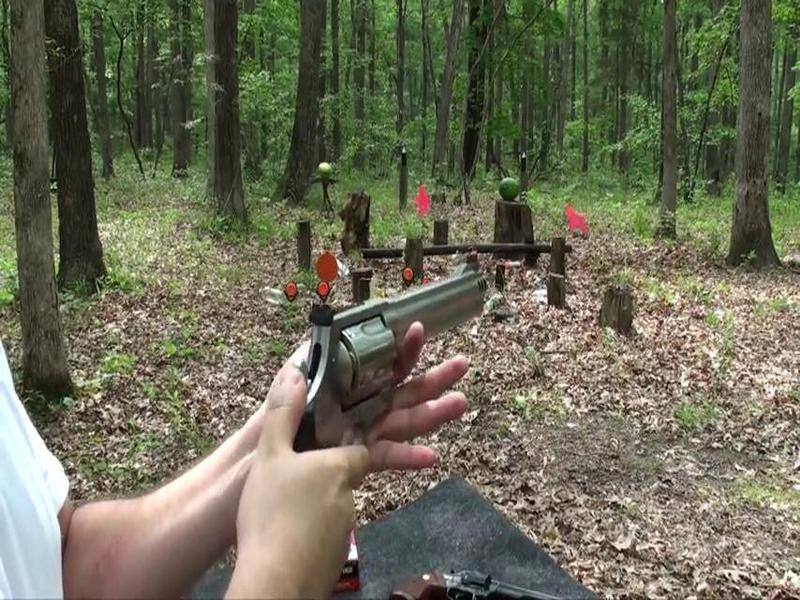Revolver: (294, 263, 498, 447)
